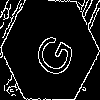G: (25, 25, 77, 83)
